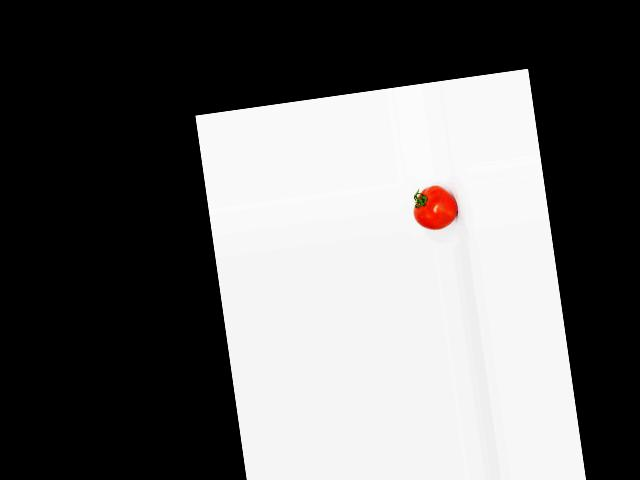tomato: (409, 183, 459, 232)
